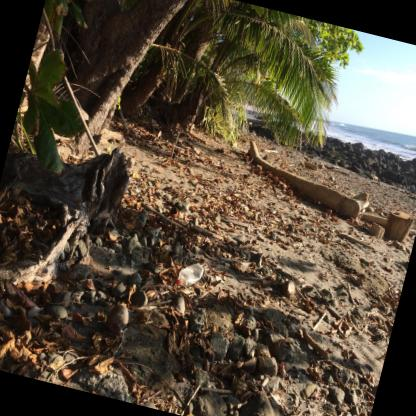Plastic: (177, 263, 203, 287), (177, 279, 181, 284)
